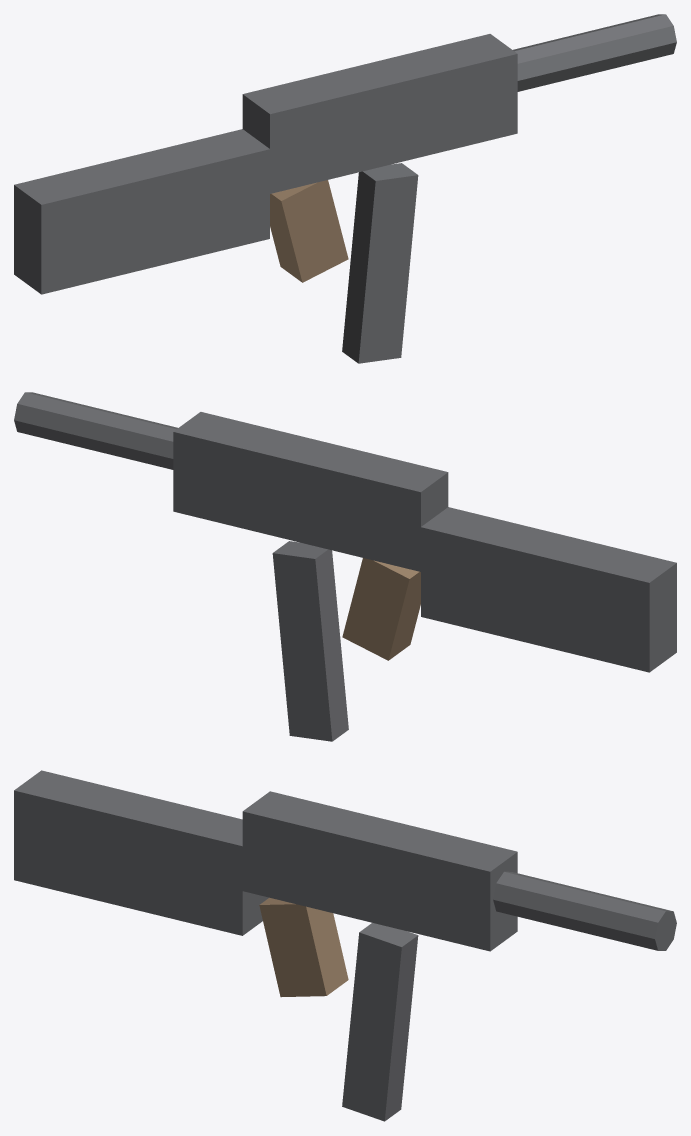
Rendered from held_weapon_pps43.glb.
The picture shows the model from 3 angles, top to bottom: view 1: azimuth 30°, elevation 25°; view 2: azimuth 150°, elevation 25°; view 3: azimuth 330°, elevation 25°; orthographic projection.
Visible parts, largest first — view 1: held_weapon_pps43; view 2: held_weapon_pps43; view 3: held_weapon_pps43.
Part boxes in pixels (x1=…): held_weapon_pps43: x1=14, y1=14, x2=676, y2=363; held_weapon_pps43: x1=14, y1=392, x2=676, y2=741; held_weapon_pps43: x1=14, y1=770, x2=676, y2=1121.
Size of the model in its own units: 0.67 by 0.2818 by 0.05.
